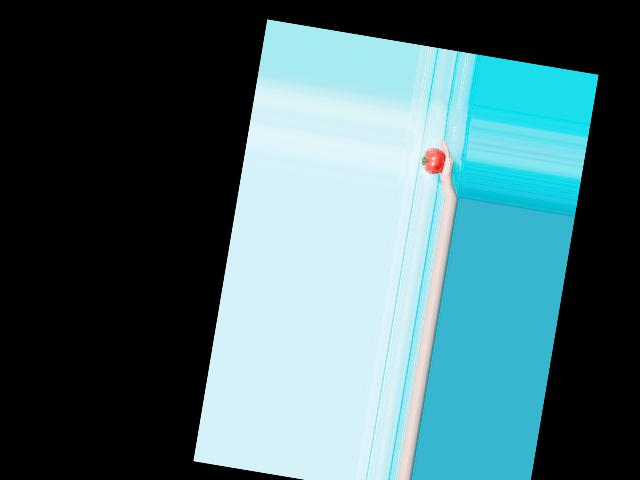tomato: (420, 145, 447, 175)
